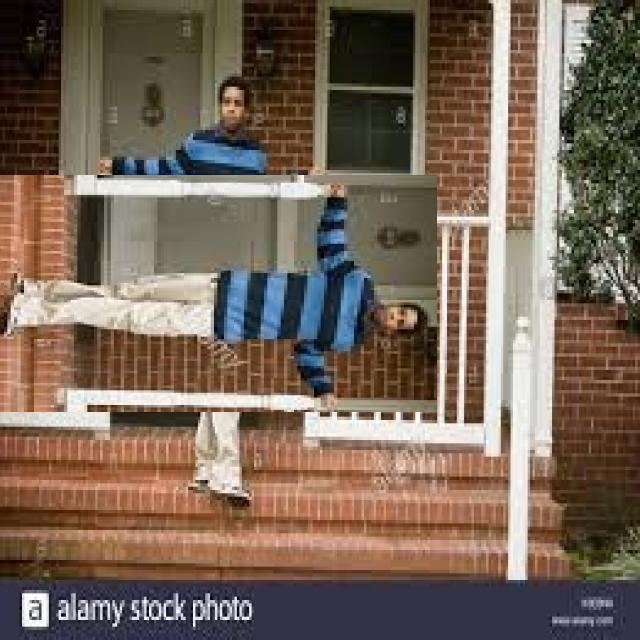NotFall: (0, 185, 441, 415)
